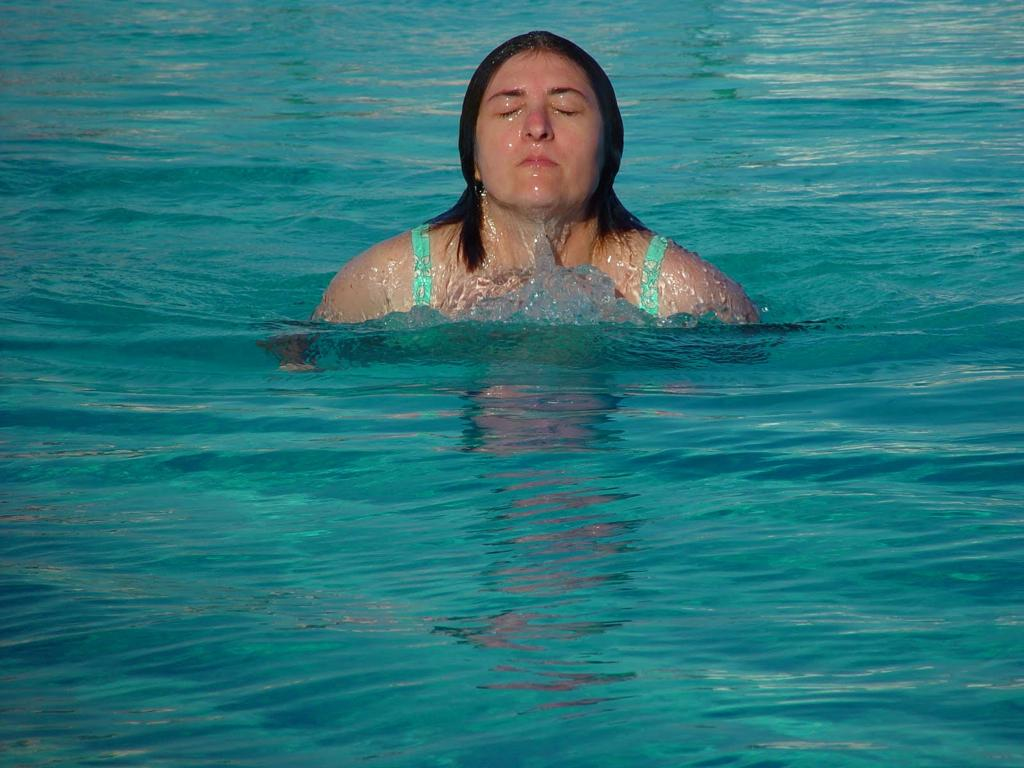face: (478, 76, 604, 212)
